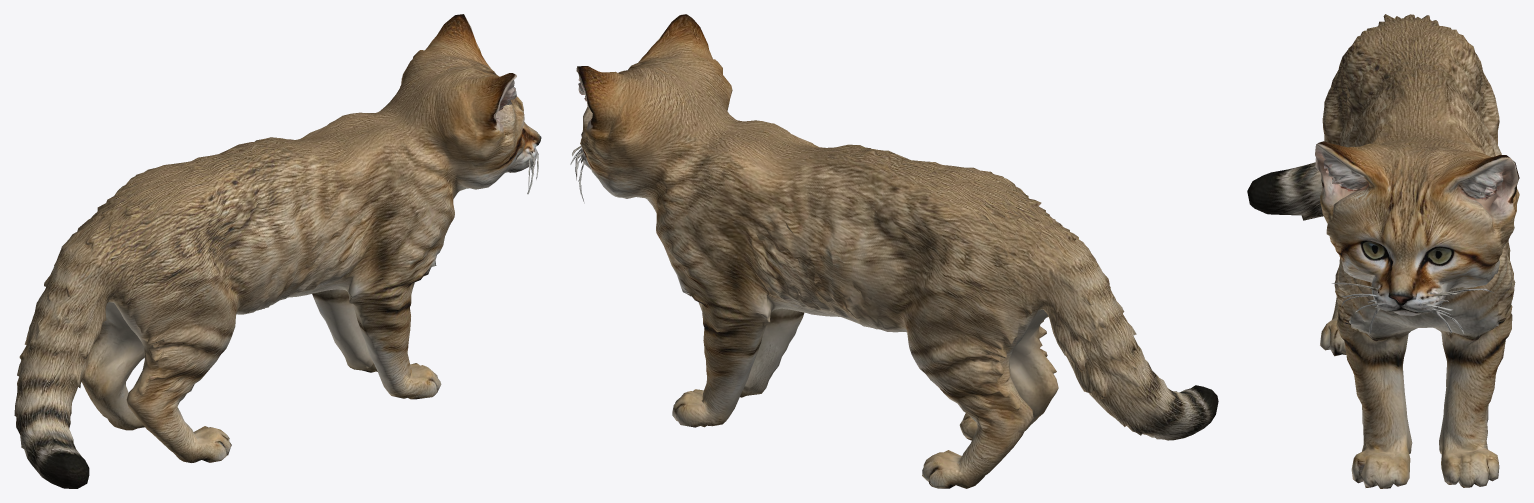
The model's file is sandcat.glb.
3 views of the same model, side by side, from view 1: azimuth 30°, elevation 25°; view 2: azimuth 150°, elevation 25°; view 3: azimuth 270°, elevation 25° (orthographic). The views are drawn at different scales.
Parts seen in each view (by area): view 1: tripo_node_46a27d29-20a1-4839-b45d-24a51e98f5c0; view 2: tripo_node_46a27d29-20a1-4839-b45d-24a51e98f5c0; view 3: tripo_node_46a27d29-20a1-4839-b45d-24a51e98f5c0.
Boxes of the visible parts, x1,y1,x2,y2 form: tripo_node_46a27d29-20a1-4839-b45d-24a51e98f5c0: (14, 14, 541, 488); tripo_node_46a27d29-20a1-4839-b45d-24a51e98f5c0: (570, 14, 1218, 488); tripo_node_46a27d29-20a1-4839-b45d-24a51e98f5c0: (1247, 14, 1519, 488).
Size of the model in its own units: 1 by 0.5557 by 0.3617.
1 material, 1 textured.
